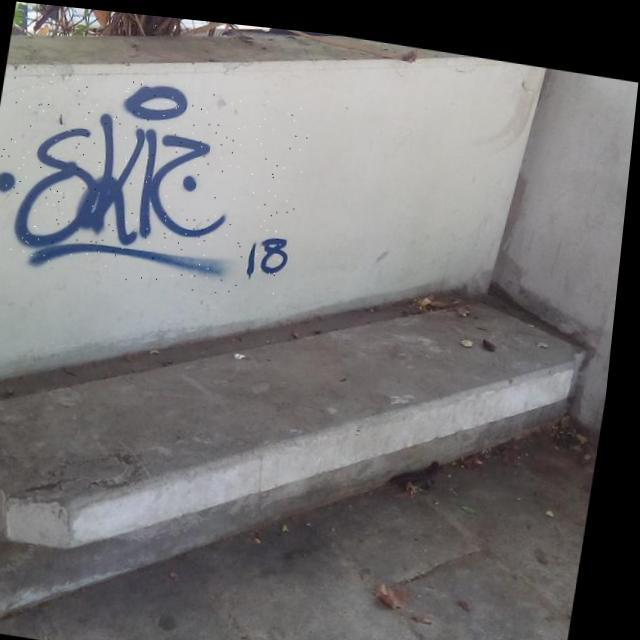-: (0, 60, 316, 298)
